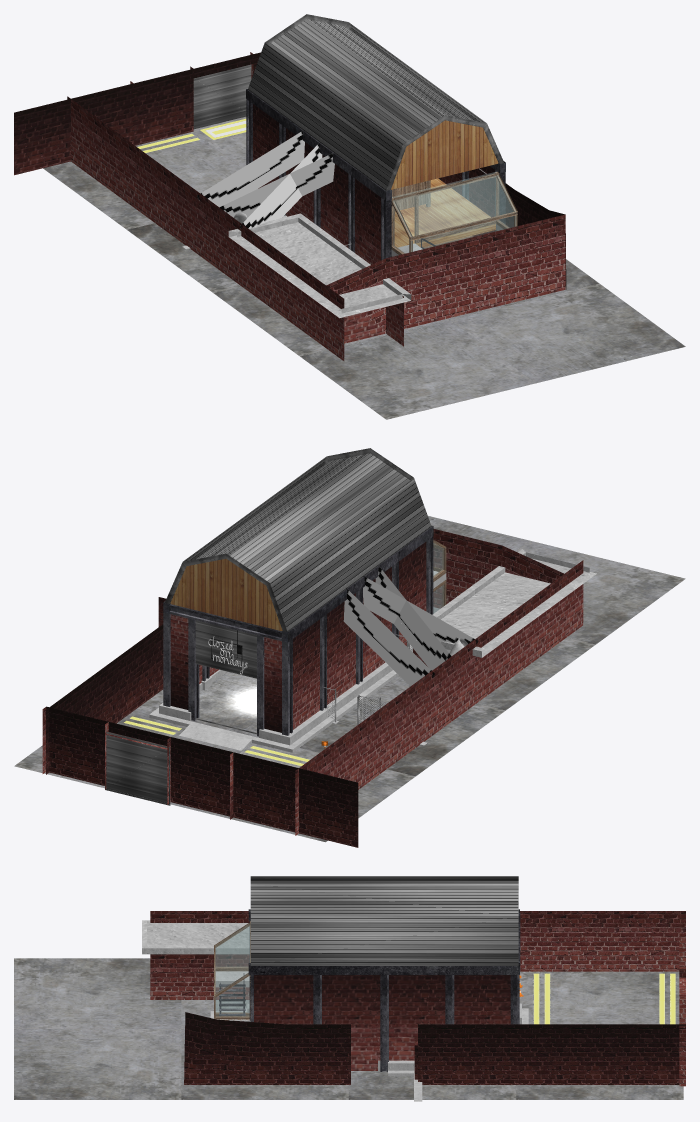
Rendered from gallery.fbx.
3 views of the same model, one above another, from view 1: azimuth 30°, elevation 25°; view 2: azimuth 150°, elevation 25°; view 3: azimuth 270°, elevation 25° (orthographic). The views are drawn at different scales.
Visible parts, largest first — view 1: pPipe3, pPlane9, pPlane8, pCube76, pPlane3, pasted__pCube8 (×3), pCube29, pCube30, pasted__pasted__pasted__pasted__pasted__pCube13, pCylinder1, pasted__pasted__pCube14 (×2), pCube45 (+27 smaller); view 2: pPipe3, pPlane8, pCube76, pasted__pCylinder1, pasted__pCube8 (×3), pPlane4, pCube45, pCube46, pCube43, pCube50, pCube51, concrete_block_2 (+34 smaller); view 3: pPipe3, pPlane9, pPlane8, pPlane3, pasted__pasted__pCube8 (×2), pCube26, pasted__pCube8, pCube25, pCube27, pCube39, pCube42, pCube24 (+26 smaller).
Boxes of the visible parts, x1,y1,x2,y2 form: pPipe3: (248, 14, 503, 190); pPlane9: (450, 283, 685, 383); pPlane8: (300, 320, 535, 419); pCube76: (228, 213, 411, 318); pPlane3: (43, 132, 241, 229); pasted__pCube8 (×3): (253, 104, 380, 264); pCube29: (505, 214, 565, 304); pCube30: (446, 229, 505, 318); pasted__pasted__pasted__pasted__pasted__pCube13: (392, 172, 515, 236); pCylinder1: (391, 120, 498, 189); pasted__pasted__pCube14 (×2): (411, 178, 515, 251); pCube45: (130, 66, 193, 145); pPipe3: (164, 448, 431, 631); pPlane8: (515, 540, 685, 644); pCube76: (432, 549, 596, 657); pasted__pCylinder1: (170, 559, 282, 630); pasted__pCube8 (×3): (293, 542, 426, 729); pPlane4: (300, 682, 505, 776); pCube45: (167, 737, 233, 819); pCube46: (233, 752, 295, 832); pCube43: (42, 706, 108, 789); pCube50: (296, 767, 358, 847); pCube51: (105, 731, 170, 805); concrete_block_2: (191, 671, 258, 737); pPipe3: (250, 876, 518, 965); pPlane9: (14, 1029, 181, 1099); pPlane8: (14, 958, 181, 1028); pPlane3: (519, 971, 679, 1024); pasted__pasted__pCube8 (×2): (254, 975, 445, 1060); pCube26: (217, 1019, 284, 1084); pasted__pCube8: (322, 975, 380, 1070); pCube25: (284, 1024, 350, 1084); pCube27: (485, 1024, 551, 1084); pCube39: (552, 1024, 618, 1084); pCube42: (552, 911, 618, 971); pCube24: (418, 1024, 484, 1084).
Size of the model in its own units: 56.5 by 29.37 by 100.
